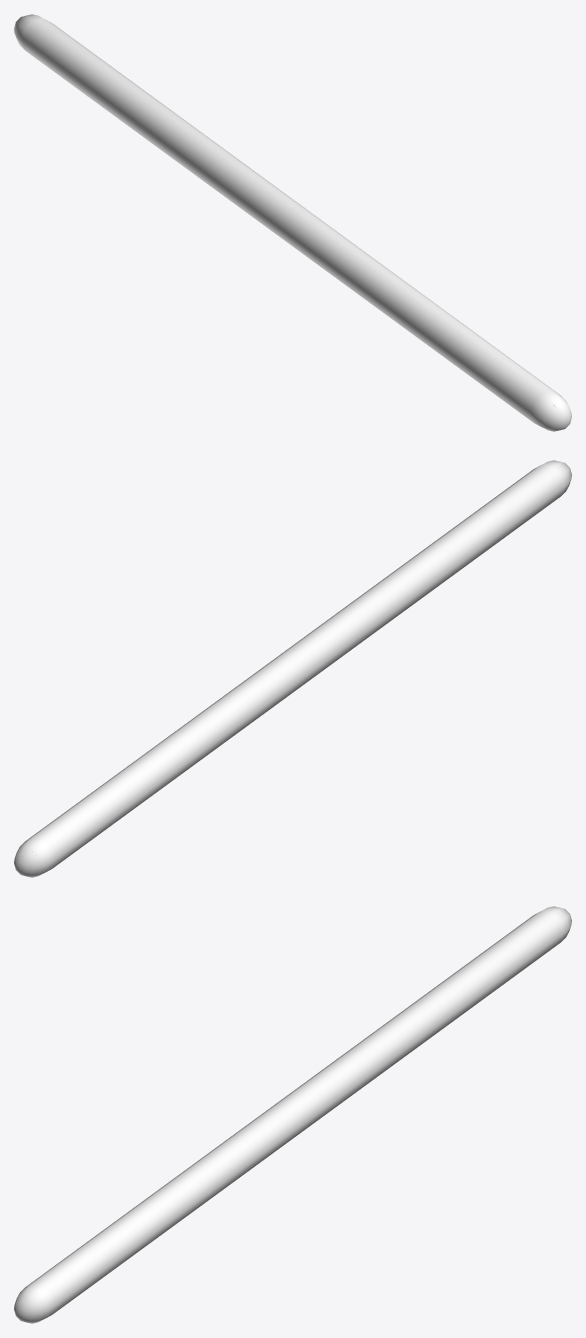
Rendered from bulletCapsula2.obj.
The picture shows the model from 3 angles, top to bottom: view 1: azimuth 30°, elevation 25°; view 2: azimuth 150°, elevation 25°; view 3: azimuth 330°, elevation 25°; orthographic projection.
Parts seen in each view (by area): view 1: Capsule001; view 2: Capsule001; view 3: Capsule001.
Part boxes in pixels (x1,y1,x2,y2): Capsule001: (14,14,571,431); Capsule001: (14,460,571,877); Capsule001: (14,906,571,1323).
Size of the model in its own units: 1.05 by 1 by 29.52.
